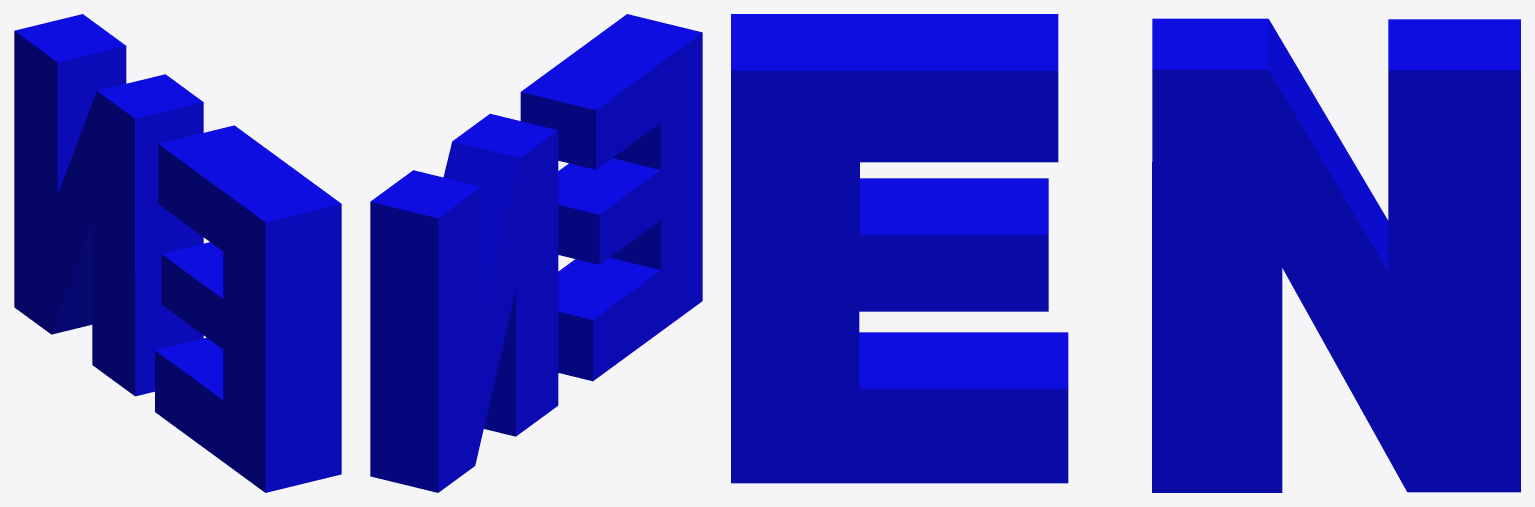
File: EN letters.fbx
The picture shows the model from 3 angles, left to right: view 1: azimuth 30°, elevation 25°; view 2: azimuth 150°, elevation 25°; view 3: azimuth 270°, elevation 25°; orthographic projection. The views are drawn at different scales.
Parts seen in each view (by area): view 1: EN Letters; view 2: EN Letters; view 3: EN Letters.
Part boxes in pixels (left/top/right/bottom): EN Letters: left=14, top=14, right=341, bottom=492; EN Letters: left=370, top=14, right=702, bottom=492; EN Letters: left=731, top=14, right=1520, bottom=492.
Size of the model in its own units: 95.39 by 332 by 561.
